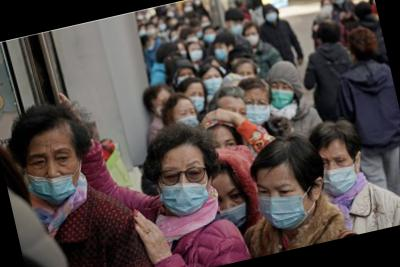mask_weared_incorrect: (23, 142, 89, 210)
with_mask: (153, 156, 217, 221), (255, 170, 316, 235), (317, 149, 362, 198), (214, 183, 251, 231), (242, 92, 276, 129), (266, 77, 299, 112), (201, 69, 228, 97), (186, 88, 209, 115), (213, 42, 231, 62), (245, 29, 263, 48), (188, 44, 206, 63), (230, 21, 246, 35), (205, 30, 219, 44), (265, 11, 281, 23)
